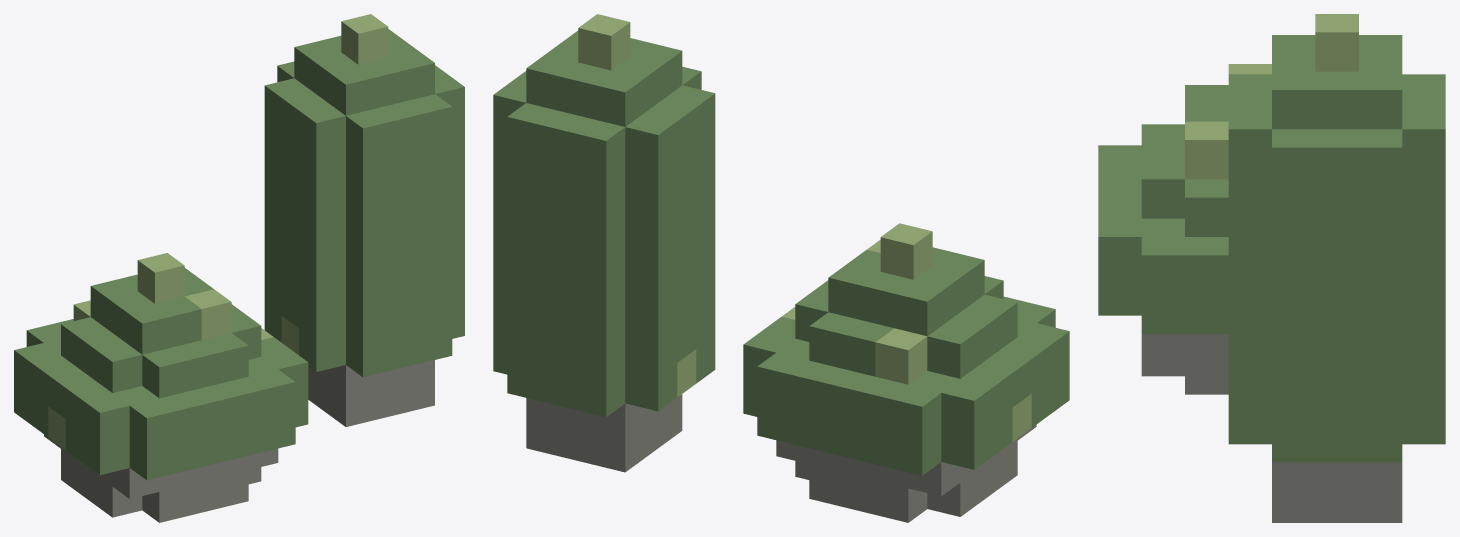
The model's file is hearthvale_topiary_pair.obj.
3 renders of one model, left to right at view 1: azimuth 30°, elevation 25°; view 2: azimuth 150°, elevation 25°; view 3: azimuth 270°, elevation 25°, orthographic. The views are drawn at different scales.
Visible parts, largest first — view 1: palette_3, palette_1, palette_4; view 2: palette_3, palette_1, palette_4; view 3: palette_3, palette_1, palette_4.
Boxes of the visible parts, x1,y1,x2,y2 form: palette_3: (14, 29, 464, 480); palette_1: (44, 360, 434, 522); palette_4: (48, 14, 388, 449); palette_3: (493, 30, 1069, 475); palette_1: (526, 394, 1036, 522); palette_4: (578, 14, 1031, 441); palette_3: (1098, 35, 1445, 462); palette_1: (1141, 334, 1402, 522); palette_4: (1185, 14, 1358, 179).
Size of the model in its own units: 0.875 by 0.75 by 0.5.
